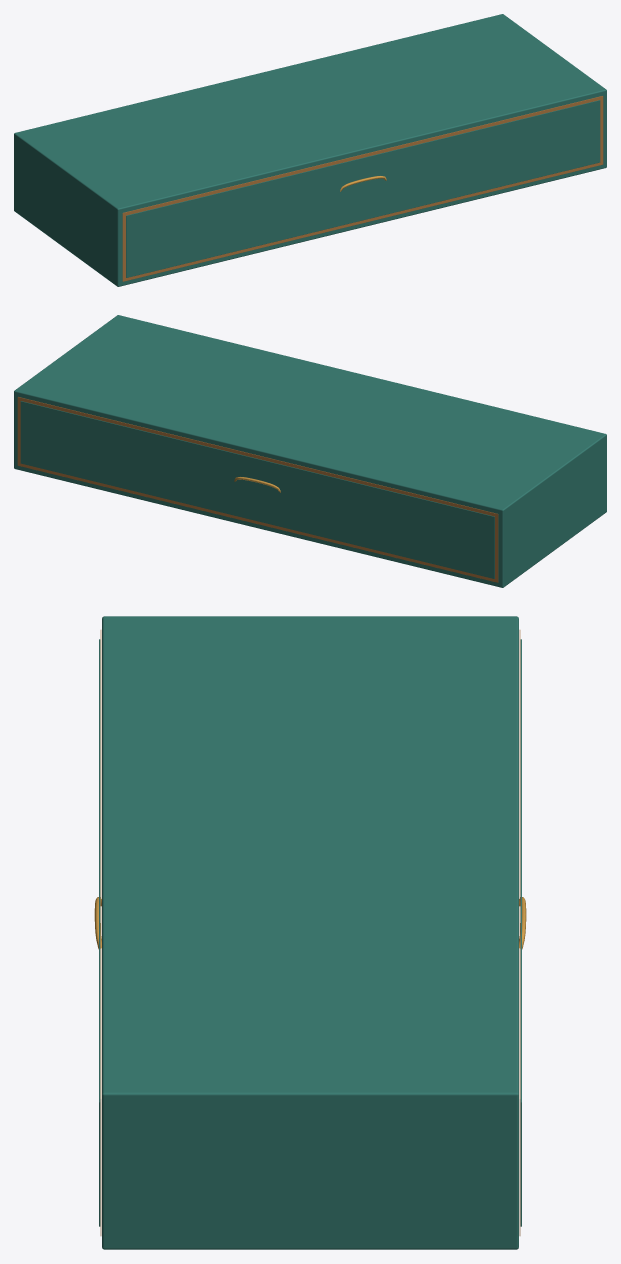
File: drawer-one-base-light.glb
3 renders of one model, top to bottom at view 1: azimuth 30°, elevation 25°; view 2: azimuth 150°, elevation 25°; view 3: azimuth 270°, elevation 25°, orthographic. The views are drawn at different scales.
Visible parts, largest first — view 1: teal, wood; view 2: teal, wood; view 3: teal, wood.
Boxes of the visible parts, box(x1,y1,x2,y2) form: teal: box(14, 14, 606, 286); wood: box(122, 96, 603, 281); teal: box(14, 315, 606, 587); wood: box(17, 397, 498, 582); teal: box(99, 616, 521, 1249); wood: box(100, 630, 520, 1235).
Size of the model in its own units: 32 by 4.9 by 12.21.
